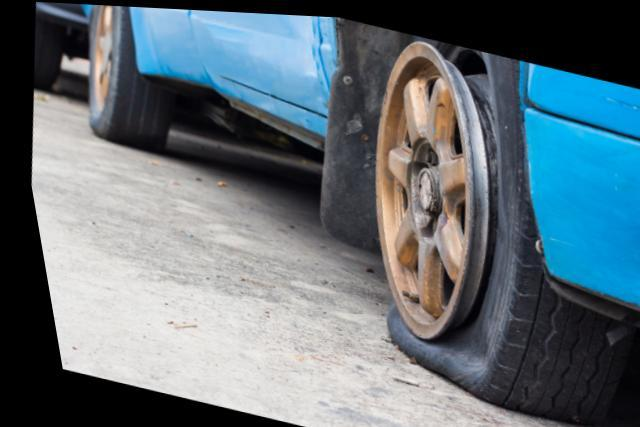tire flat: (370, 30, 624, 423)
